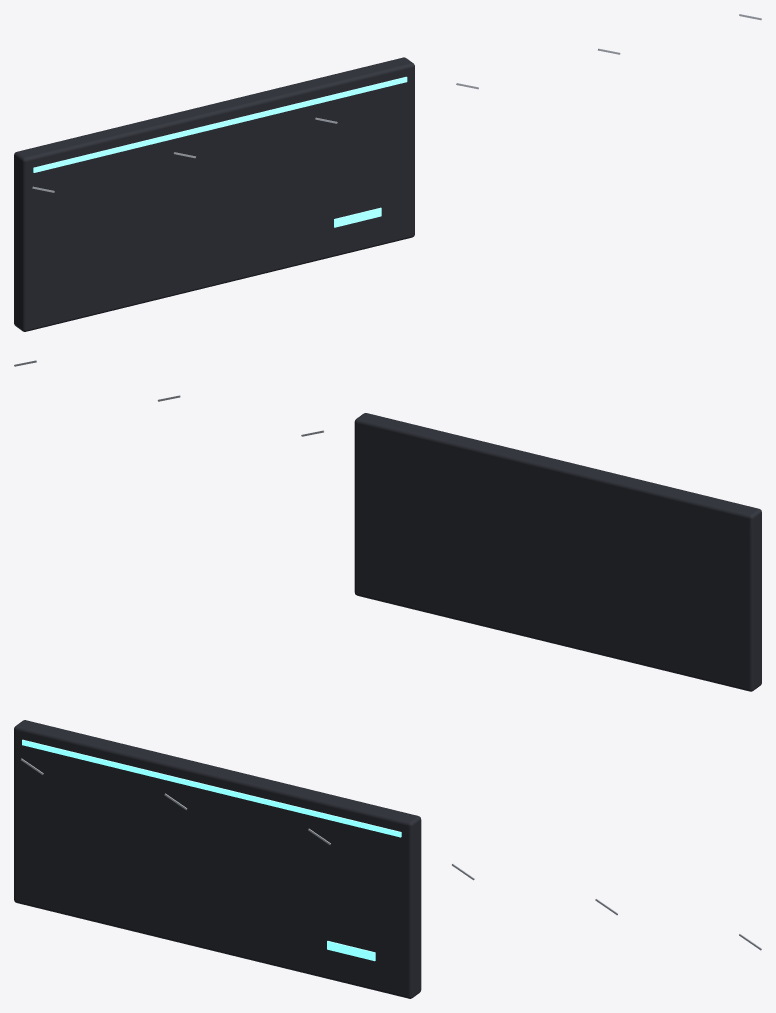
3 renders of one model, top to bottom at view 1: azimuth 30°, elevation 25°; view 2: azimuth 150°, elevation 25°; view 3: azimuth 330°, elevation 25°, orthographic.
Parts seen in each view (by area): view 1: part_057; view 2: part_057; view 3: part_057.
Boxes of the visible parts, x1,y1,x2,y2 form: part_057: (14,14,761,331); part_057: (14,360,761,691); part_057: (14,720,761,998).
Bounding box in the file's own units: 4.7 × 1.06 × 0.128.
